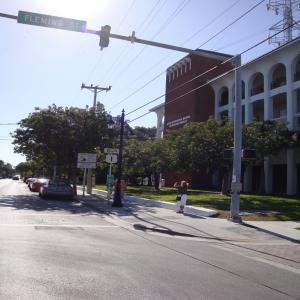Vehicle-registration-plate: (59, 190, 64, 192)
